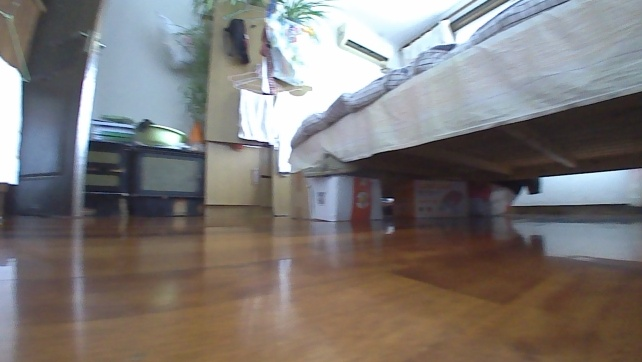bed1: (283, 0, 641, 224)
door: (5, 0, 109, 220)
